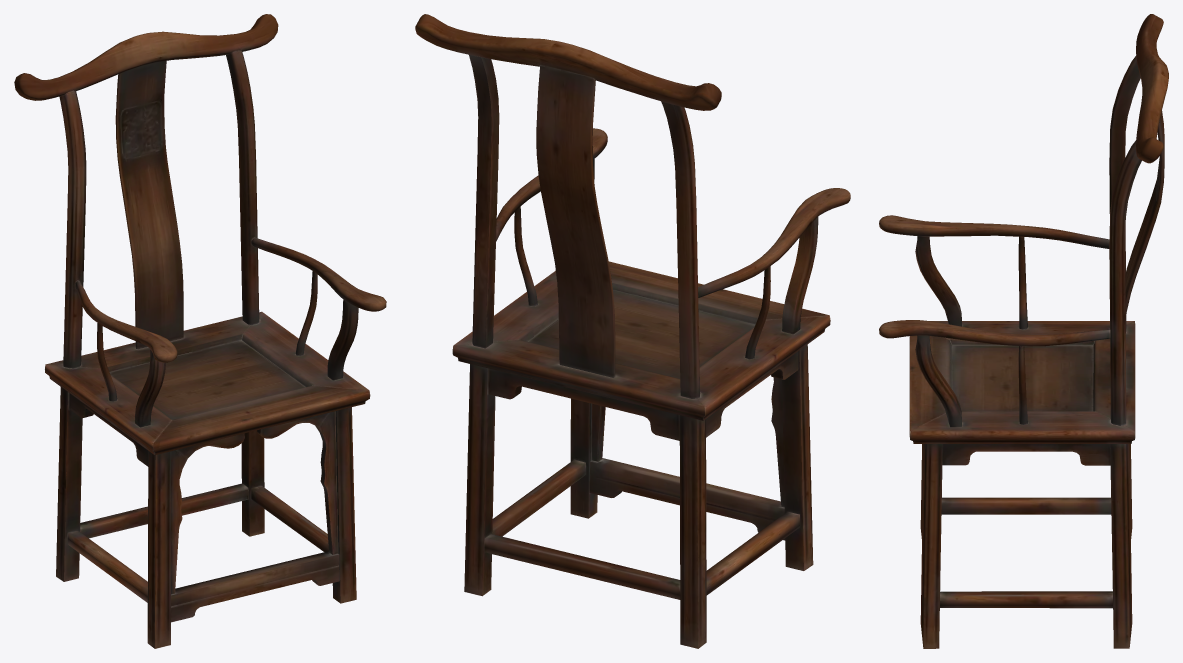
The model's file is chinese_armchair.glb.
The picture shows the model from 3 angles, left to right: view 1: azimuth 30°, elevation 25°; view 2: azimuth 150°, elevation 25°; view 3: azimuth 270°, elevation 25°; orthographic projection. The views are drawn at different scales.
Visible parts, largest first — view 1: chinese_armchair; view 2: chinese_armchair; view 3: chinese_armchair.
Boxes of the visible parts, x1,y1,x2,y2 form: chinese_armchair: (14,14,386,648); chinese_armchair: (415,14,850,648); chinese_armchair: (879,14,1168,648).
Bounding box in the file's own units: 0.8482 × 1.59 × 0.7887.
Materials: 1 (1 with a texture image).
